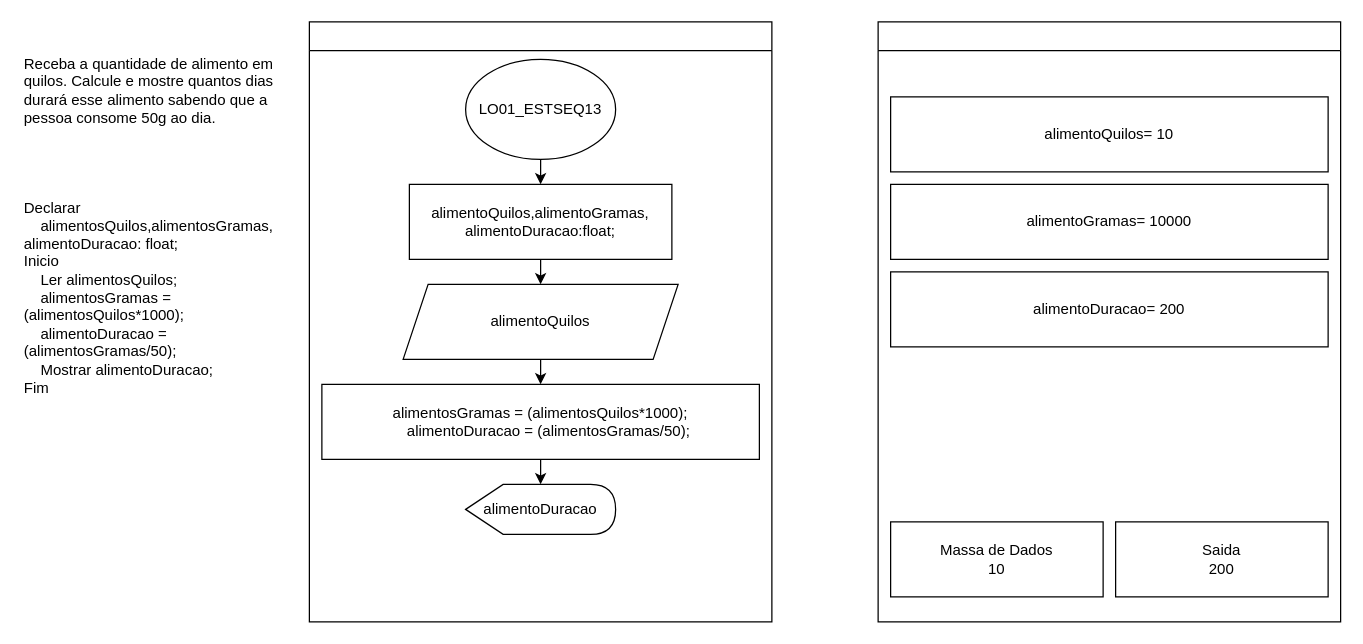
Some shapes in this 1363 by 644 pixel diagram are drawn without their labels. The box of each missing label's shape, as (x1, y1, x2, y2) in pixels:
FluxoGrama: (308, 21, 772, 622)
Teste de Mesa: (877, 21, 1341, 622)
